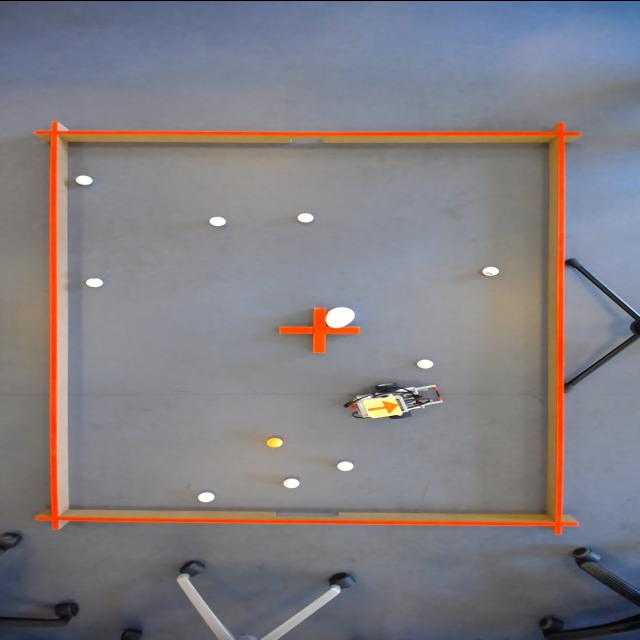cross: (277, 306, 362, 355)
egg: (323, 304, 359, 328)
orange_ball: (264, 436, 288, 448)
robot: (360, 395, 406, 419)
white_ball: (334, 458, 358, 472), (292, 210, 316, 224), (206, 214, 230, 228), (83, 275, 107, 288), (280, 477, 303, 489), (415, 358, 438, 370), (479, 264, 502, 276), (196, 491, 219, 503), (74, 173, 96, 184)
